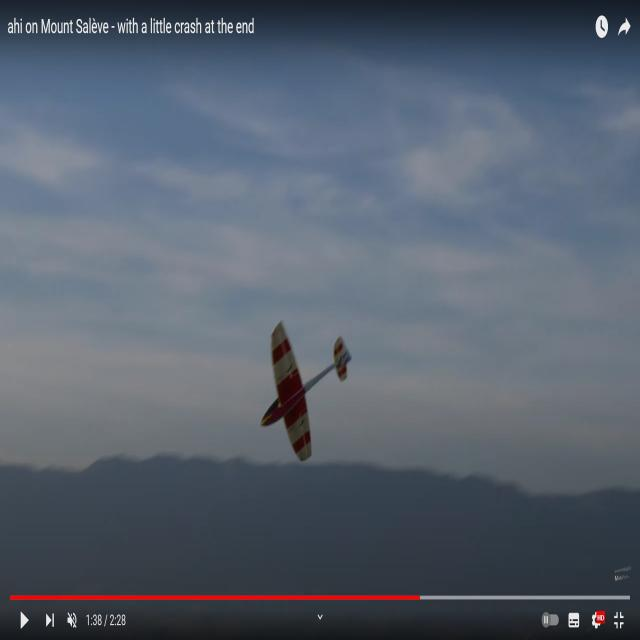iha: (294, 319, 322, 453)
